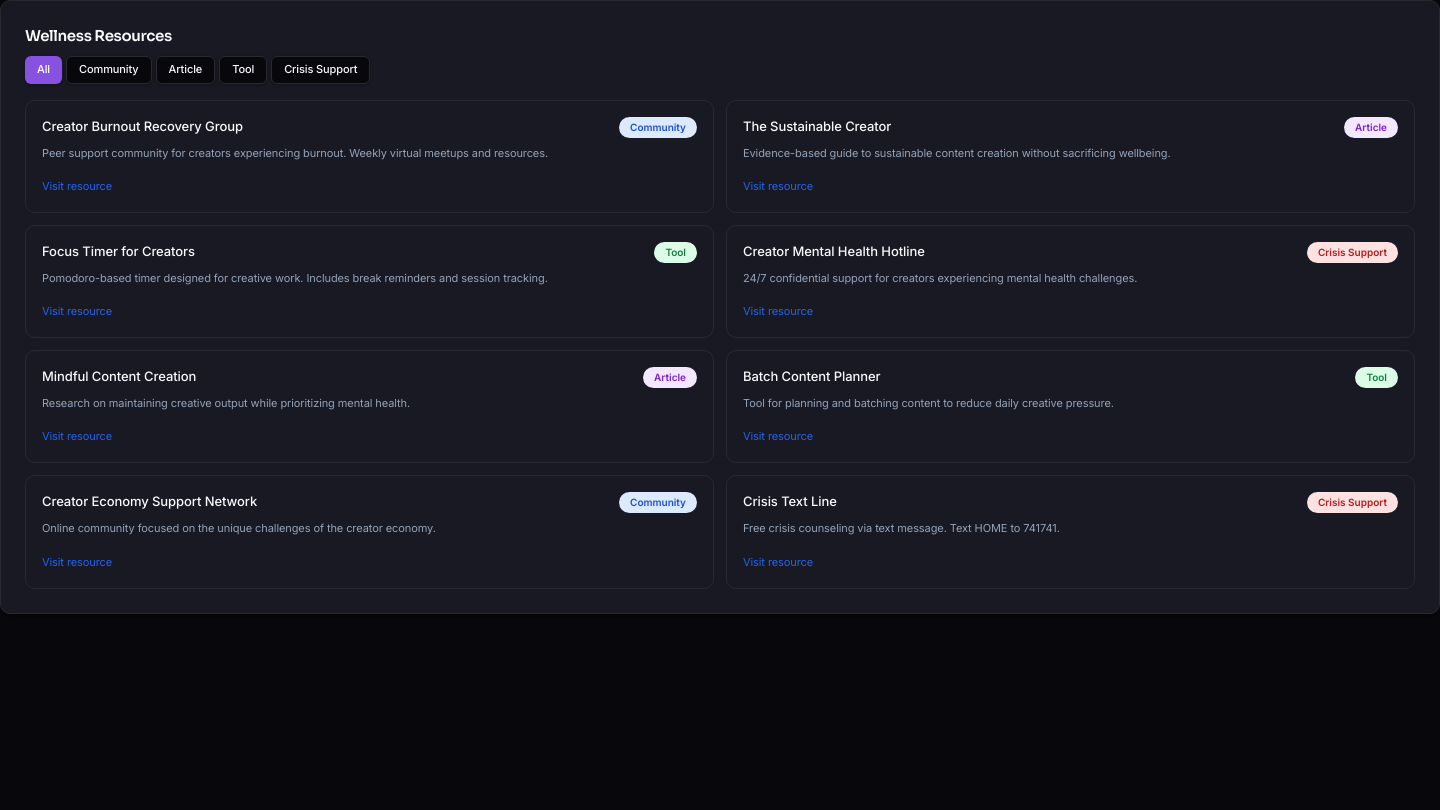
Test: WellnessResources › filters by category
Step 1. Click the button "Tool" → click(243, 70), box [219, 56, 267, 84]
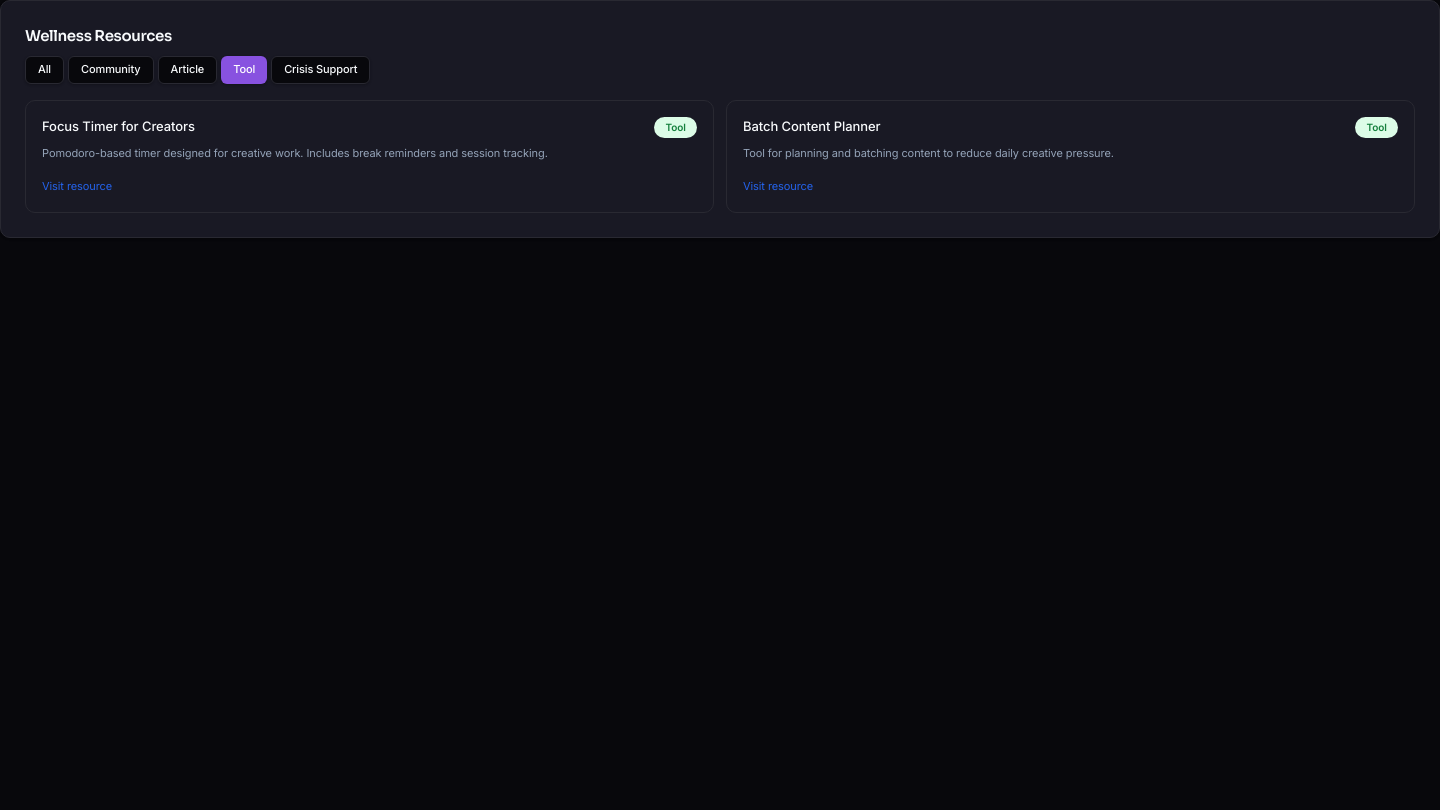
expect the heading "Focus Timer for Creators" is shown: met, box [42, 118, 195, 134]
expect the heading "Creator Burnout Recovery Group" is gone: met
